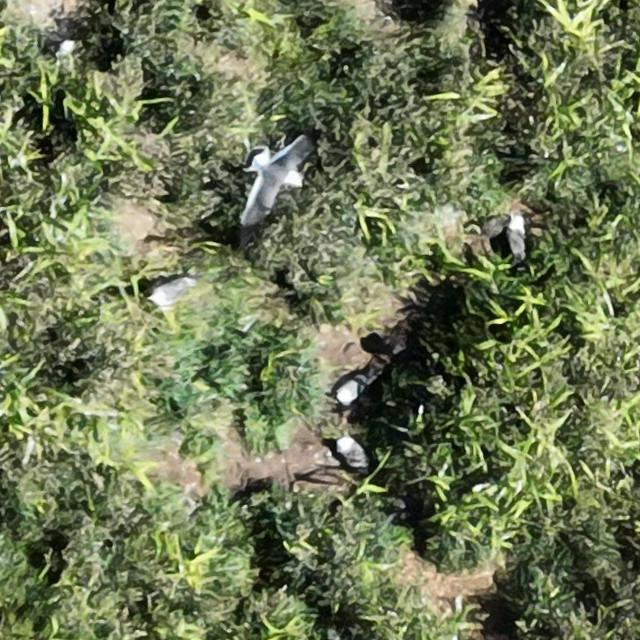F: (248, 134, 308, 228)
umineko: (150, 281, 189, 305), (337, 436, 364, 466), (508, 218, 526, 258), (336, 377, 362, 403)
